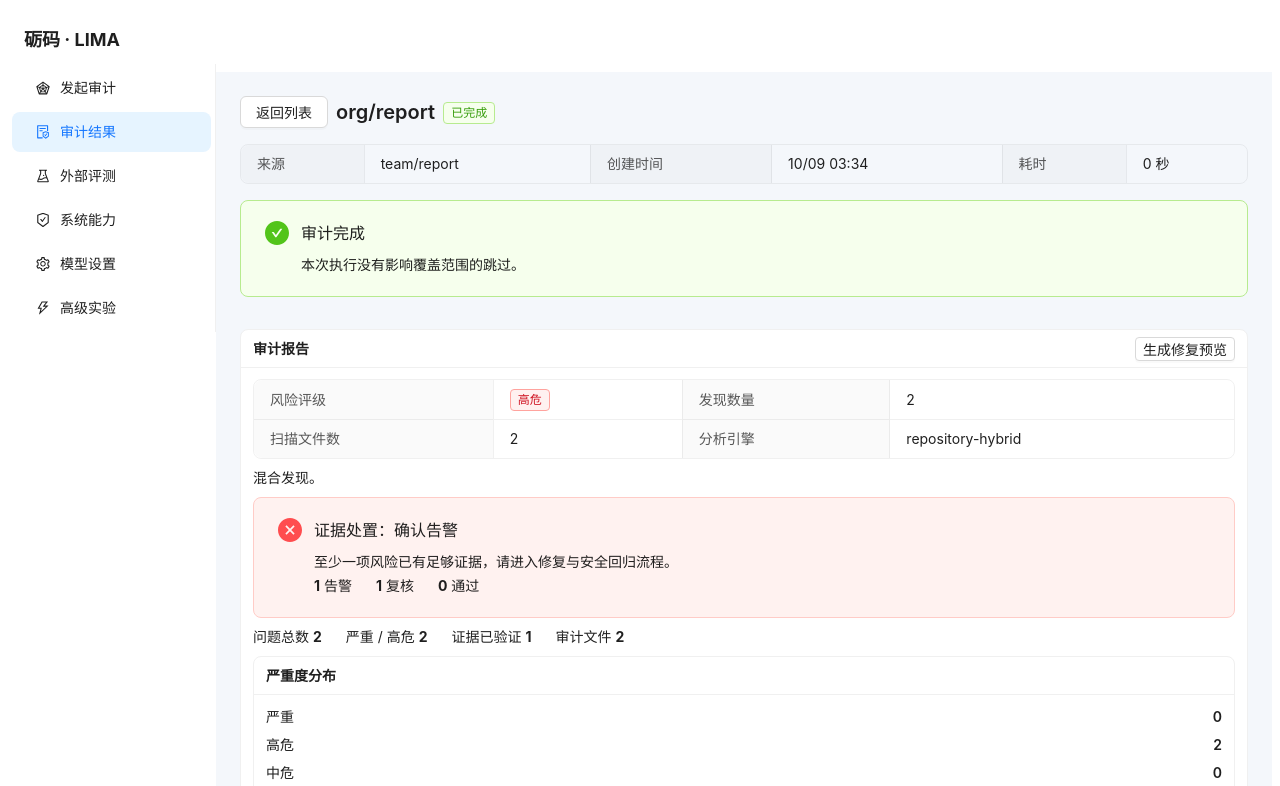
Scenario: task detail report surface › runs a repair preview and renders the operation result panel
Click the button "生成修复预览".
click(1185, 349)  # box [1135, 337, 1235, 361]
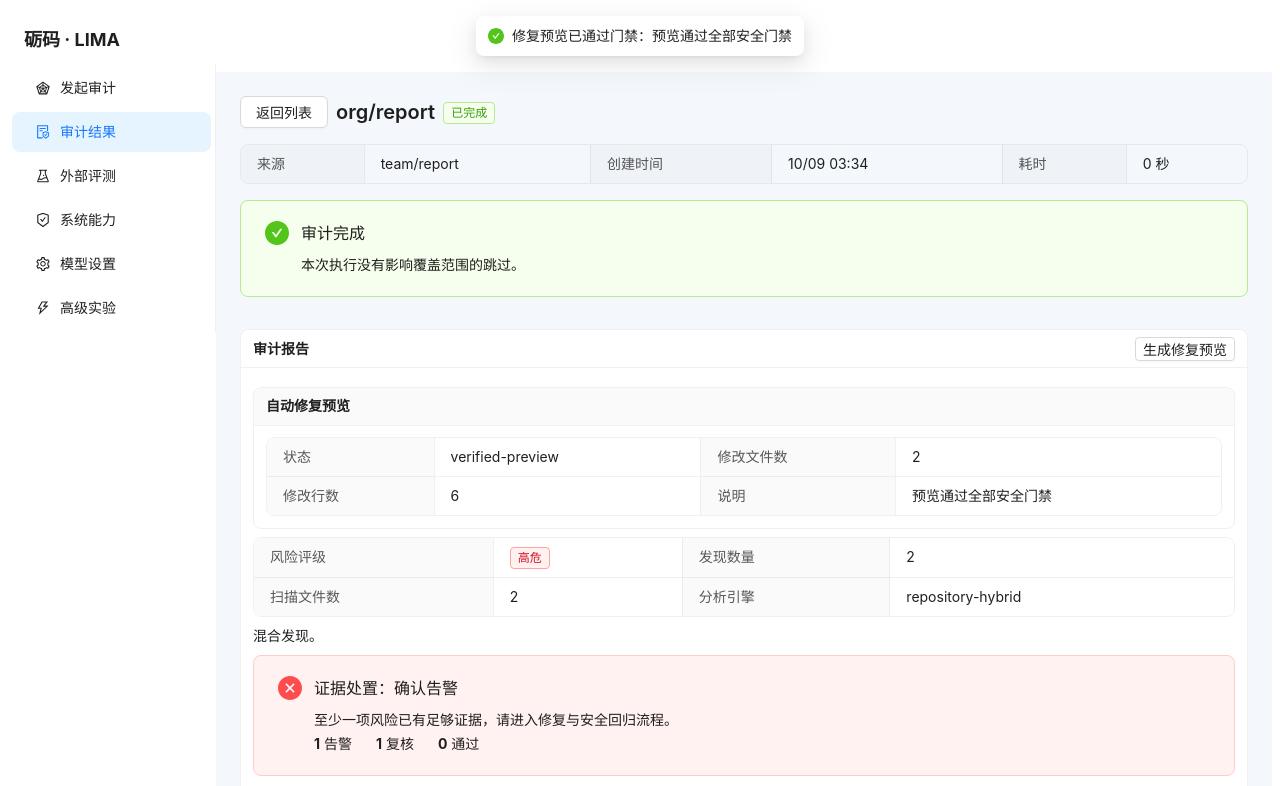
Expected: the text "自动修复预览" is shown, [266, 397, 350, 414]
Expected: the text "预览通过全部安全门禁" is shown, [912, 487, 1052, 504]
Expected: the text "verified-preview" is shown, [450, 448, 559, 465]
